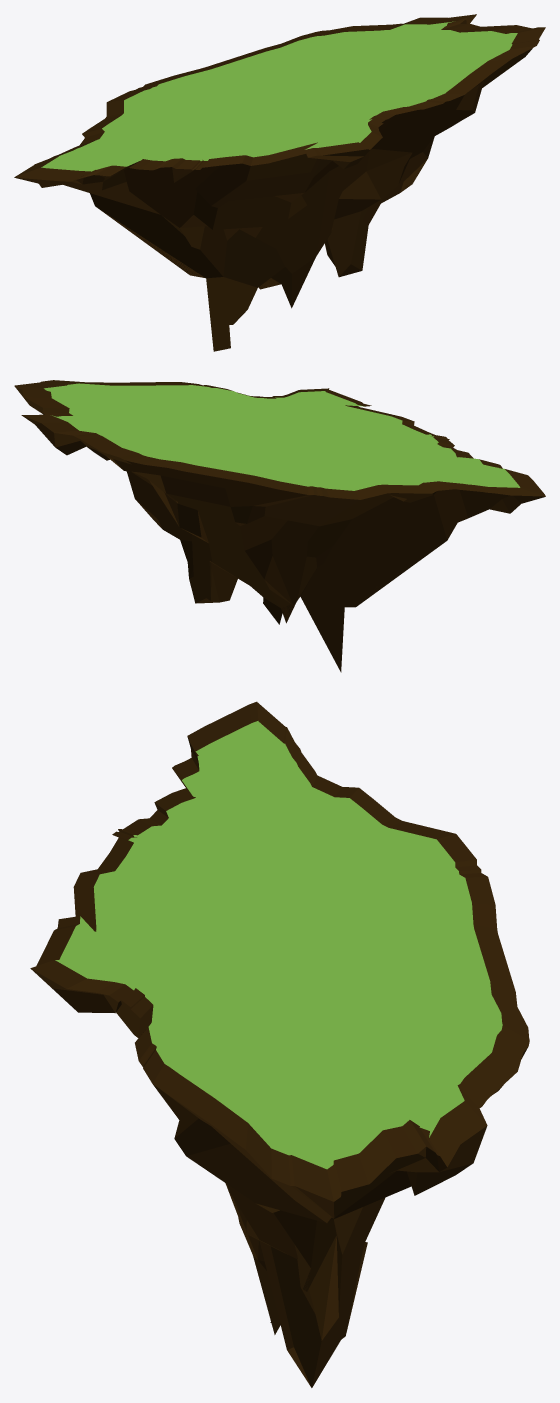
File: island 1 bald.glb
The picture shows the model from 3 angles, top to bottom: view 1: azimuth 30°, elevation 25°; view 2: azimuth 150°, elevation 25°; view 3: azimuth 270°, elevation 25°; orthographic projection. The views are drawn at different scales.
Visible parts, largest first — view 1: Vert.002, Vert.001; view 2: Vert.002, Vert.001; view 3: Vert.001, Vert.002.
Boxes of the visible parts, x1,y1,x2,y2 form: Vert.002: (14, 14, 545, 351); Vert.001: (41, 21, 517, 171); Vert.002: (14, 380, 545, 672); Vert.001: (44, 383, 520, 490); Vert.001: (55, 721, 502, 1169); Vert.002: (30, 701, 529, 1387).
Size of the model in its own units: 1.92 by 0.7842 by 0.8094.
